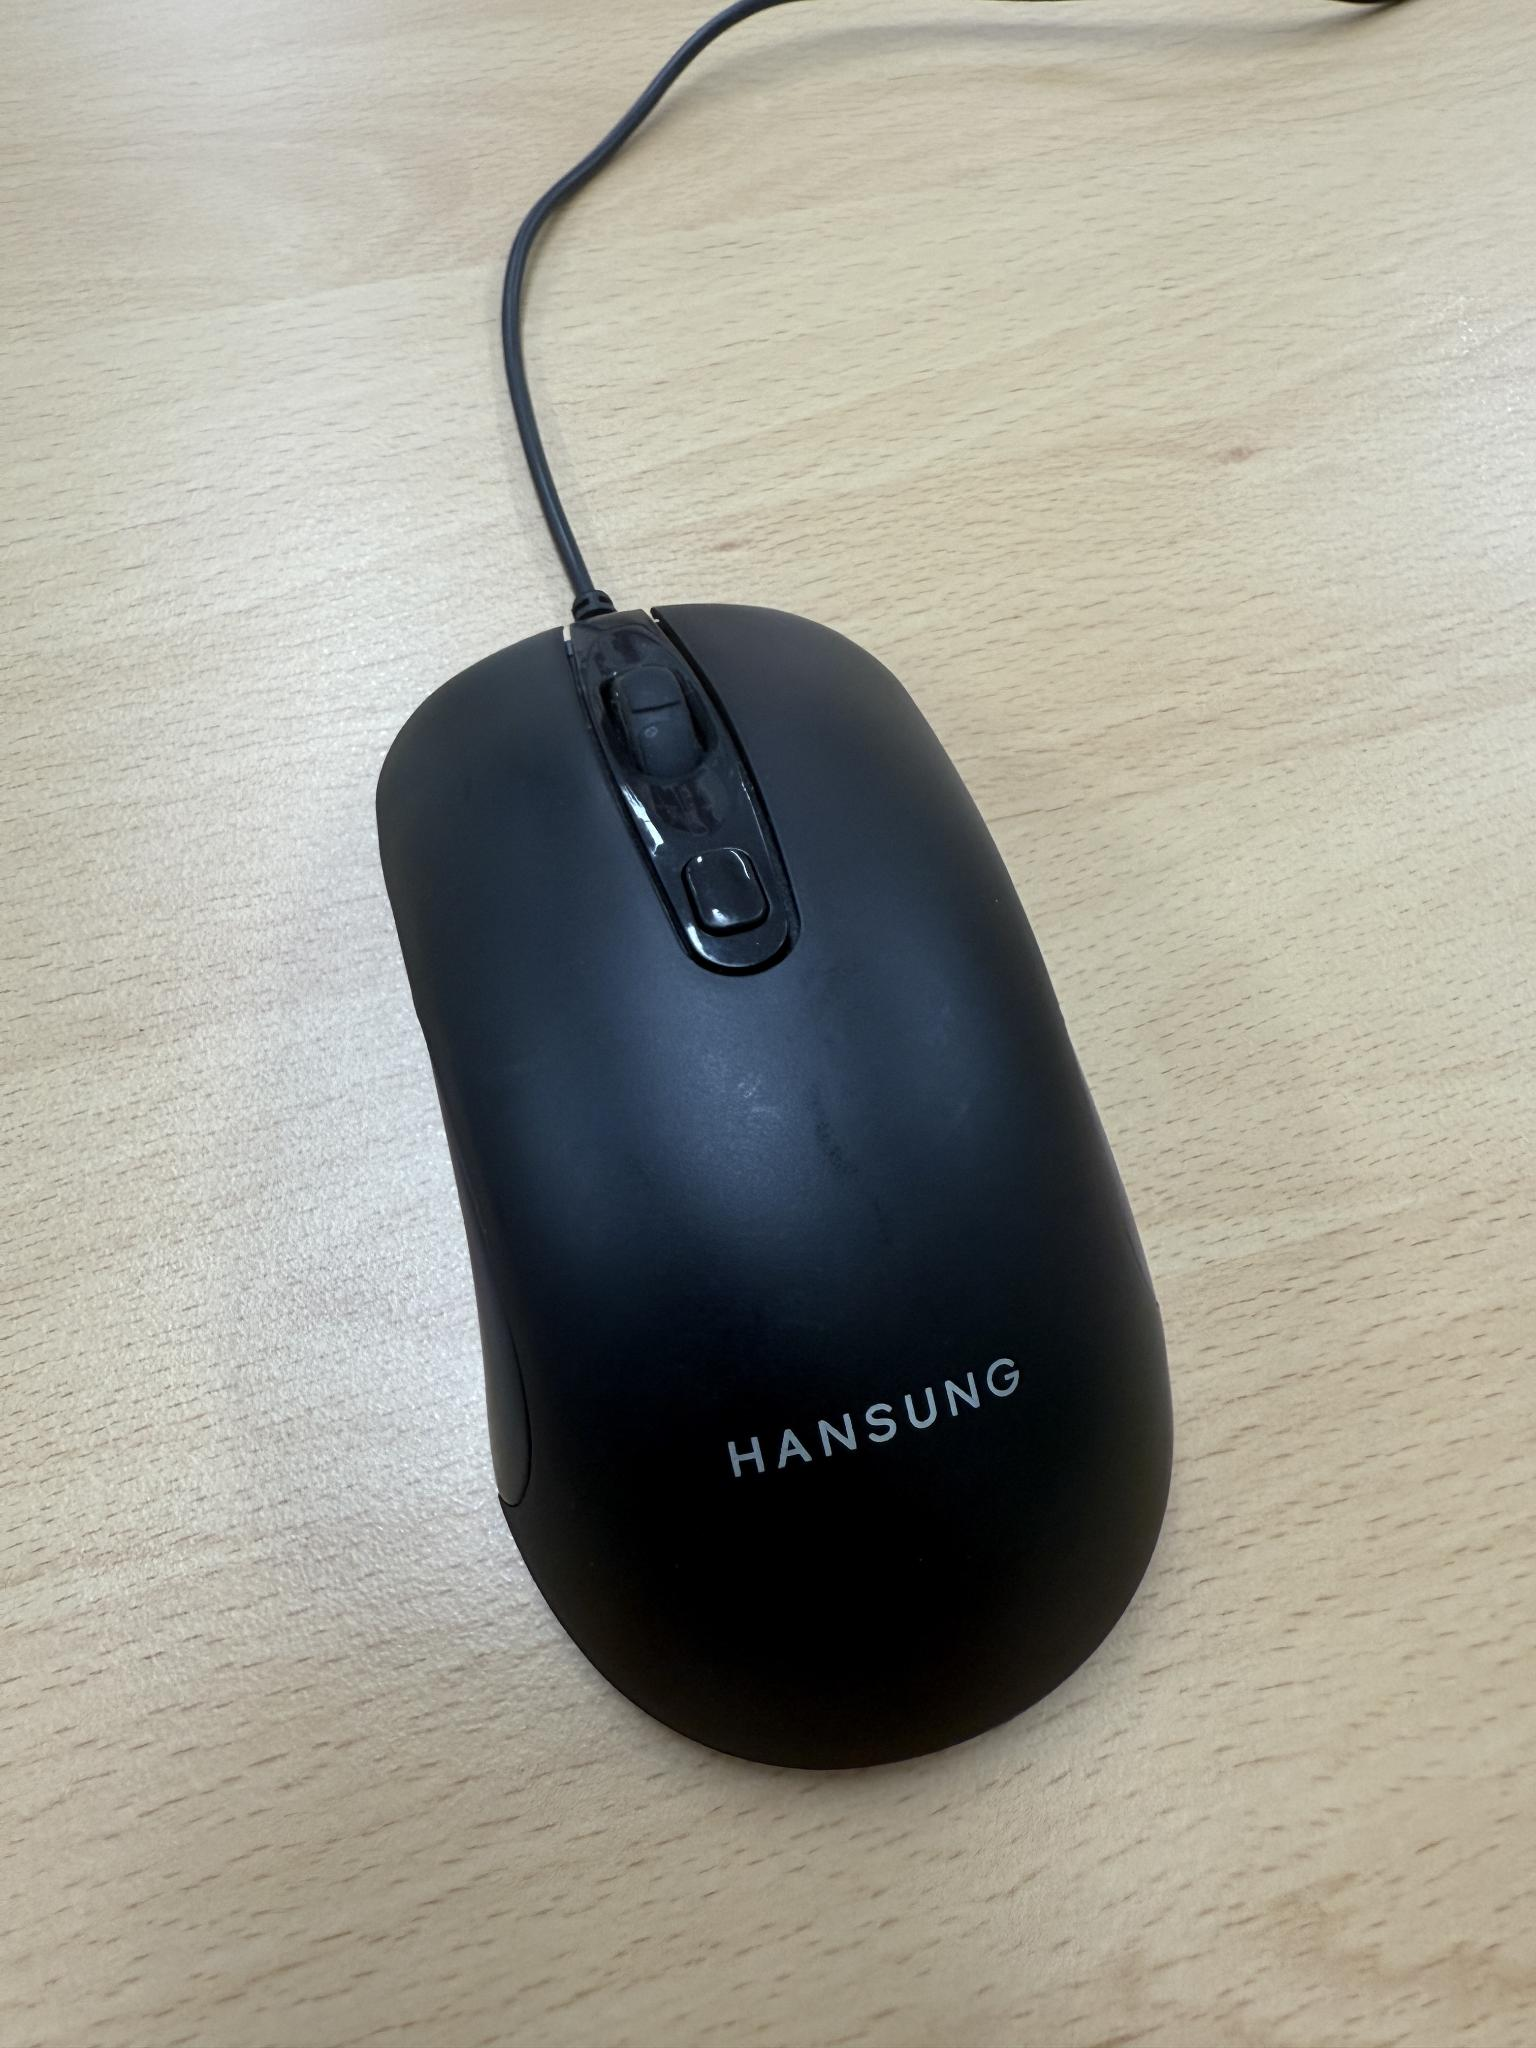front: (368, 589, 1186, 1777)
